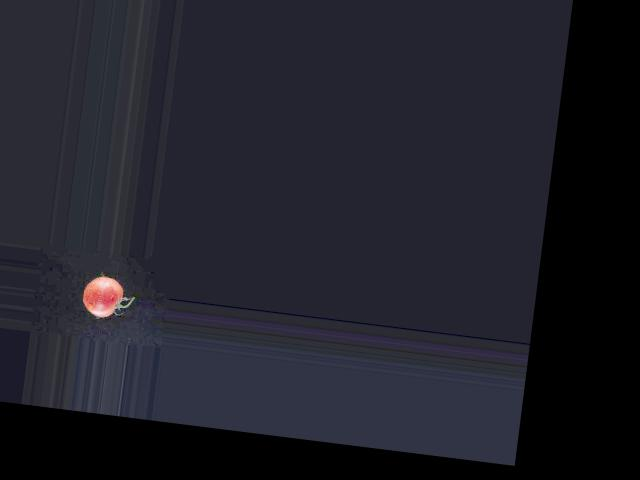tomato: (80, 273, 125, 318)
